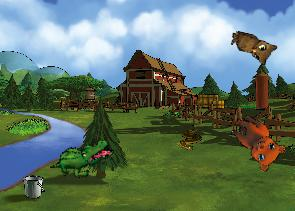bear: (220, 110, 290, 175)
crocodile: (48, 125, 116, 191)
owl: (226, 30, 278, 67)
